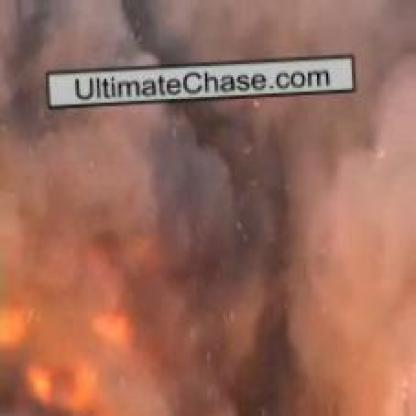smoke: (21, 13, 400, 394)
